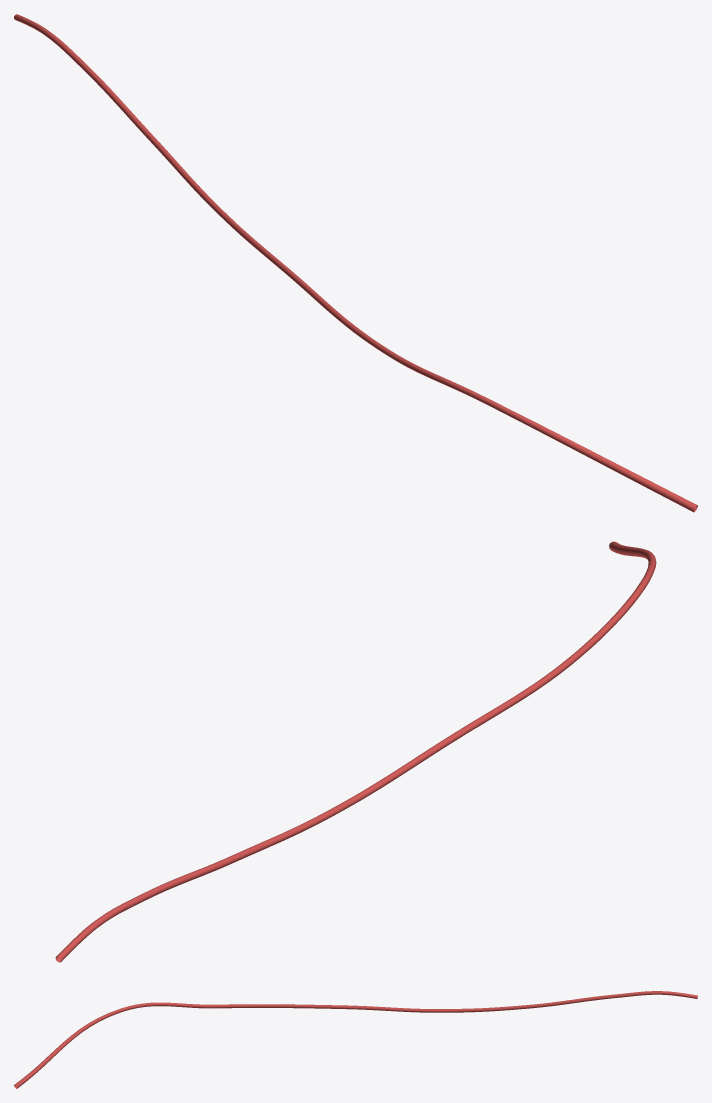
The picture shows the model from 3 angles, top to bottom: view 1: azimuth 30°, elevation 25°; view 2: azimuth 150°, elevation 25°; view 3: azimuth 270°, elevation 25°; orthographic projection. The views are drawn at different scales.
Parts seen in each view (by area): view 1: 旋股外侧动脉降支; view 2: 旋股外侧动脉降支; view 3: 旋股外侧动脉降支.
Boxes of the visible parts, <box> form: 旋股外侧动脉降支: <box>14,14,697,512</box>; 旋股外侧动脉降支: <box>55,541,656,962</box>; 旋股外侧动脉降支: <box>14,991,697,1088</box>.
Bounding box in the file's own units: 0.0718 × 0.0524 × 0.4885.
